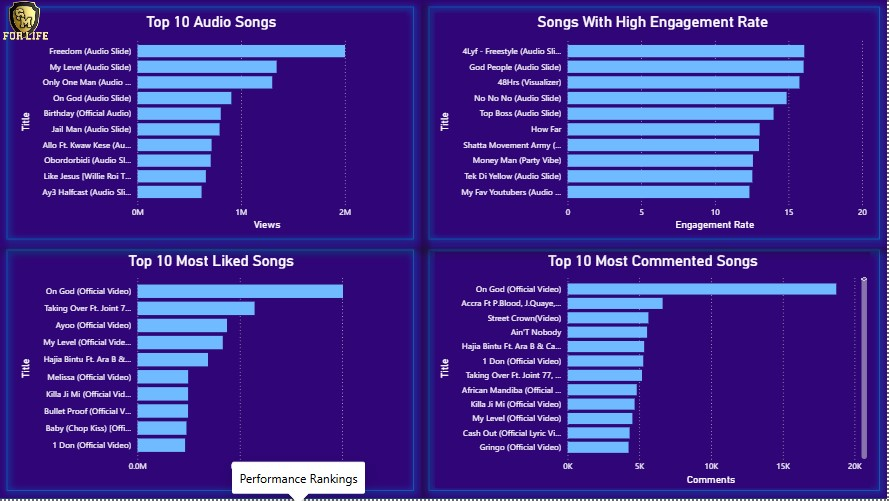

The page's visual inventory and layout, read from the dashboard file:
{"tool":"powerbi","page":{"name":"Performance Rankings","canvas":[1280,720],"ordinal":1},"visuals":[{"type":"shape","title":"Background","box":[0,0,1280.2,720],"z":0},{"type":"shape","box":[608.4,350.3,671.6,369.1],"z":5000},{"type":"barChart","title":"Top 10 Most Commented Songs","fields":{"Category":["songs_fact_table.title"],"Y":["Sum(platform_metrics_dim_table.comments)"]},"box":[627.2,364,627.2,340.1],"z":5500},{"type":"shape","box":[608.4,0,671.6,357.2],"z":6000},{"type":"barChart","title":"Songs With High Engagement Rate","fields":{"Category":["songs_fact_table.title"],"Y":["Sum(platform_metrics_dim_table.engagement_rate)"]},"box":[627.2,20.5,627.2,317.9],"z":6500},{"type":"shape","box":[0,0,608.4,357.2],"z":7000},{"type":"barChart","title":"Top 10 Audio Songs","fields":{"Y":["Sum(platform_metrics_dim_table.views)"],"Category":["songs_fact_table.title"]},"box":[23.9,20.5,562.2,317.9],"z":8000},{"type":"image","box":[0,0,73.4,61.9],"z":8500},{"type":"shape","box":[0,350.3,608.4,369.1],"z":9000},{"type":"barChart","title":"Top 10 Most Liked Songs","fields":{"Category":["songs_fact_table.title"],"Y":["Sum(platform_metrics_dim_table.likes)"]},"box":[23.9,364,562.2,340.1],"z":9500}]}

Visuals, with their boxes in screenshot pixels (x1, y1, x2, y2), scaled from the page's 1280x720 canvas onto the 889x501 screenshot:
"Background" shape: [0,0,888,500]
shape: [423,244,888,500]
"Top 10 Most Commented Songs" barChart: [436,253,871,490]
shape: [423,0,888,249]
"Songs With High Engagement Rate" barChart: [436,14,871,235]
shape: [0,0,423,249]
"Top 10 Audio Songs" barChart: [17,14,407,235]
image: [0,0,51,43]
shape: [0,244,423,500]
"Top 10 Most Liked Songs" barChart: [17,253,407,490]
